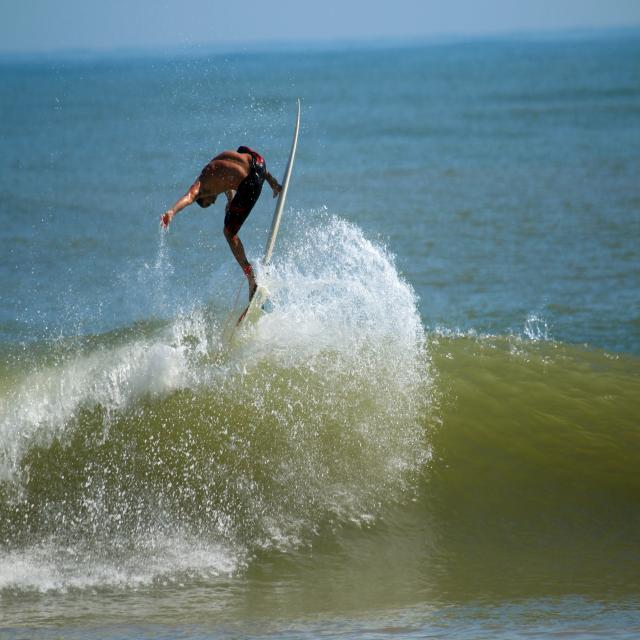adult: (160, 143, 280, 319)
